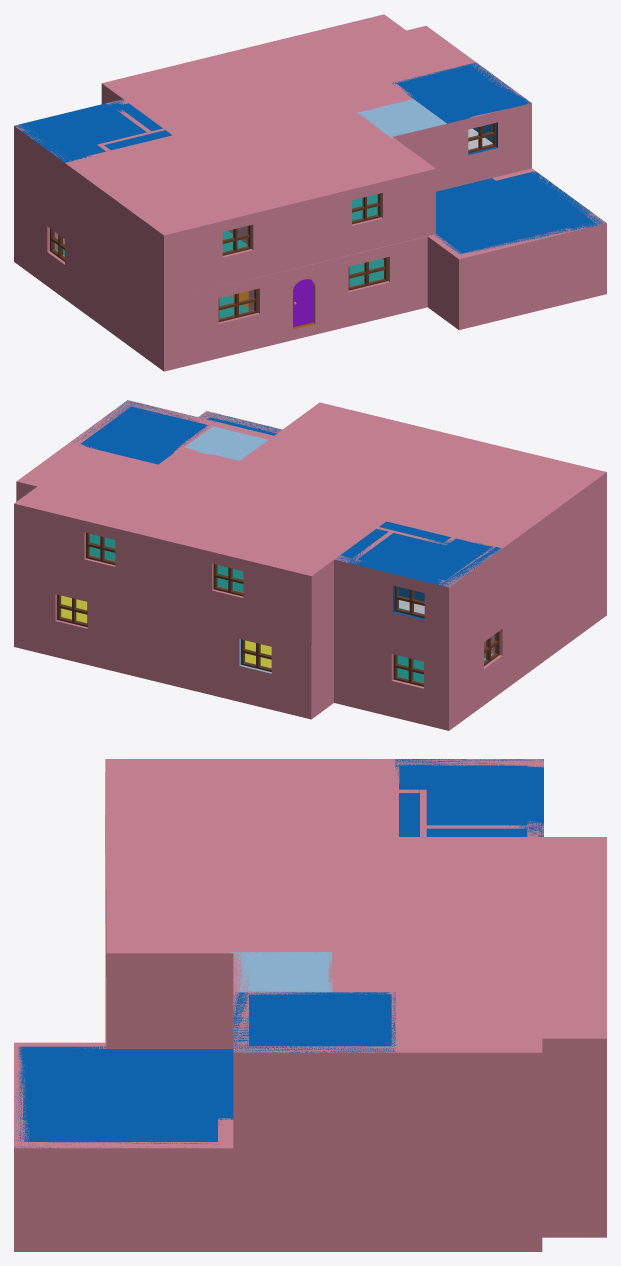
File: SimpsonsHouse10.fbx
3 views of the same model, one above another, from view 1: azimuth 30°, elevation 25°; view 2: azimuth 150°, elevation 25°; view 3: azimuth 270°, elevation 25° (orthographic). The views are drawn at different scales.
Parts seen in each view (by area): view 1: Roof2, Walls2, Walls1, Roof1, Floor1, Floor2, Window5, Window6, DoorFinal, Window7, Window8, Window11; view 2: Roof2, Walls2, Walls1, Floor1, Floor2, Window3, Window9, Window1, Window2, Window12, Window10, Roof1; view 3: Roof2, Walls2, Walls1, Roof1, Floor1, Floor2.
Boxes of the visible parts, box(x1,y1,x2,y2) form: Roof2: box(15, 15, 530, 234); Walls2: box(14, 14, 531, 295); Walls1: box(14, 169, 606, 360); Roof1: box(421, 168, 605, 258); Floor1: box(14, 246, 606, 371); Floor2: box(14, 128, 531, 300); Window5: box(218, 289, 258, 322); Window6: box(348, 257, 388, 290); DoorFinal: box(293, 279, 313, 327); Window7: box(352, 193, 381, 224); Window8: box(222, 225, 251, 255); Window11: box(468, 123, 496, 153); Roof2: box(16, 400, 605, 586); Walls2: box(14, 400, 606, 650); Walls1: box(14, 411, 606, 719); Floor1: box(14, 595, 606, 730); Floor2: box(14, 534, 606, 656); Window3: box(57, 594, 87, 627); Window9: box(213, 564, 243, 596); Window1: box(393, 654, 423, 686); Window2: box(241, 639, 271, 671); Window12: box(394, 586, 424, 618); Window10: box(86, 533, 115, 564); Roof1: box(201, 411, 281, 435); Roof2: box(105, 759, 606, 1052); Walls2: box(105, 759, 606, 1140); Walls1: box(14, 868, 606, 1236); Roof1: box(14, 876, 233, 1148); Floor1: box(14, 1222, 606, 1251); Floor2: box(105, 860, 606, 1148).
Size of the model in its own units: 1685 by 533 by 1438.
